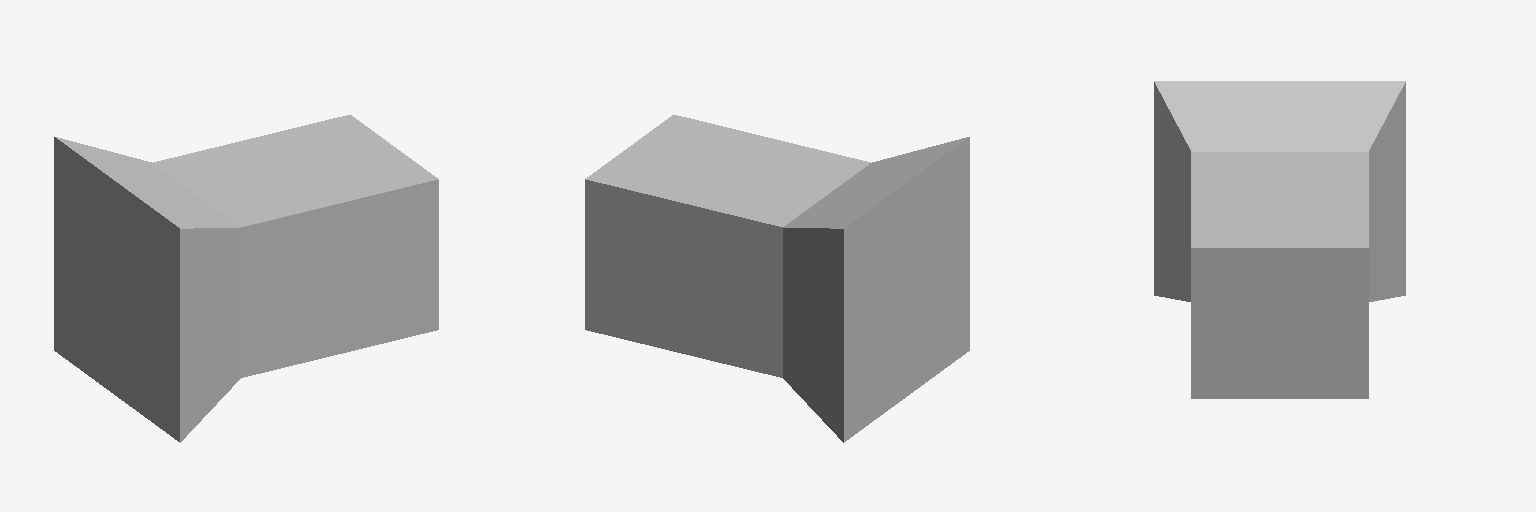
The model's file is cam.obj.
The picture shows the model from 3 angles: view 1: azimuth 30°, elevation 25°; view 2: azimuth 150°, elevation 25°; view 3: azimuth 270°, elevation 25°; orthographic projection.
Parts seen in each view (by area): view 1: Cube; view 2: Cube; view 3: Cube.
Boxes of the visible parts, x1,y1,x2,y2 form: Cube: [54, 115, 438, 442]; Cube: [585, 115, 969, 442]; Cube: [1154, 81, 1405, 398].
Size of the model in its own units: 0.0999 by 0.0738 by 0.0787.